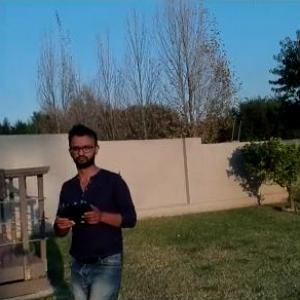follow: (52, 119, 145, 299)
